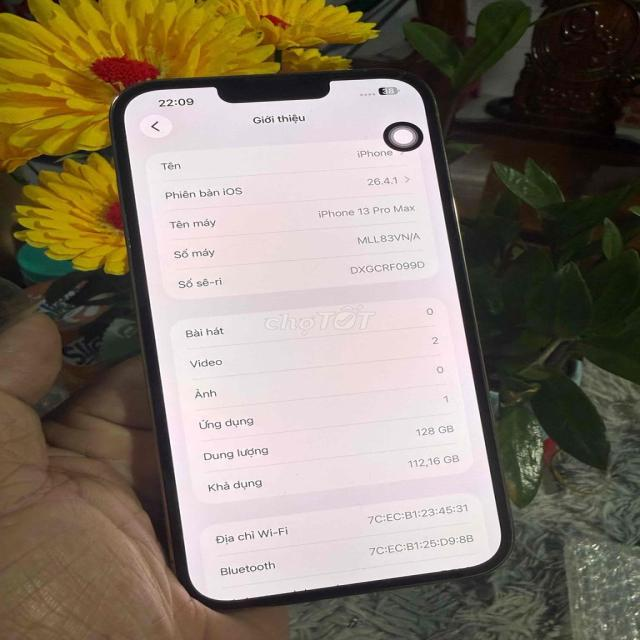gen_12_13: (110, 69, 517, 614)
